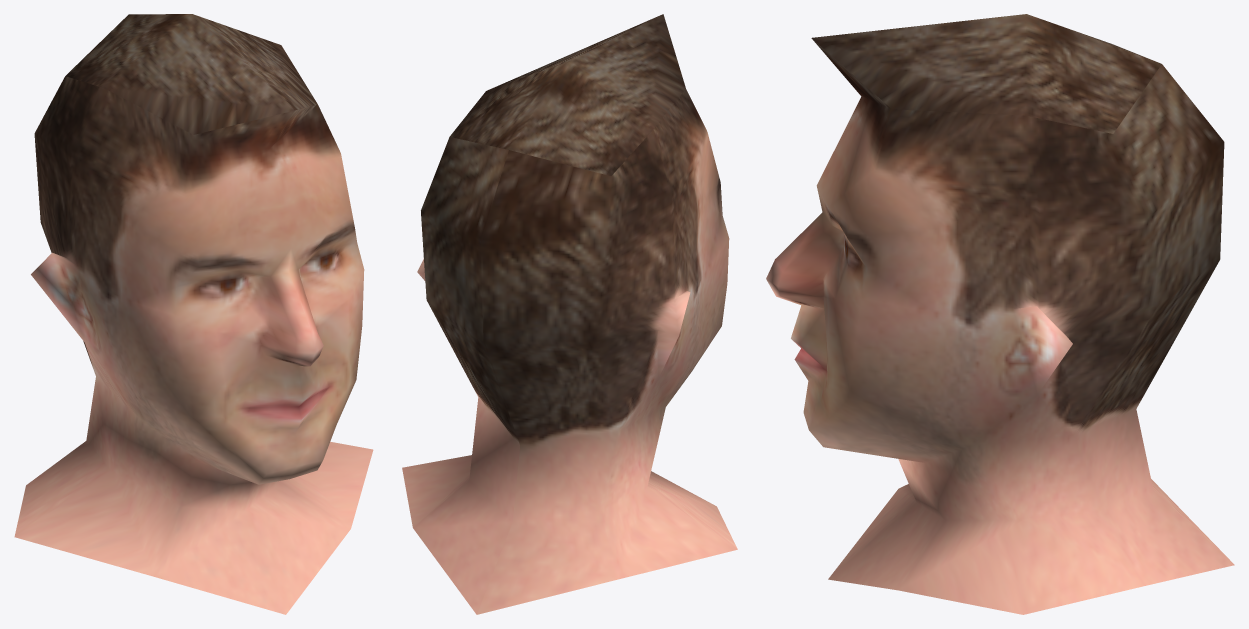
File: doug.dae
The picture shows the model from 3 angles, left to right: view 1: azimuth 30°, elevation 25°; view 2: azimuth 150°, elevation 25°; view 3: azimuth 270°, elevation 25°; orthographic projection. The views are drawn at different scales.
Parts seen in each view (by area): view 1: polySurface1; view 2: polySurface1; view 3: polySurface1.
Part boxes in pixels (box(x1,y1,x2,y2)): polySurface1: box(14, 14, 373, 614); polySurface1: box(402, 14, 737, 614); polySurface1: box(766, 14, 1234, 614).
Bounding box in the file's own units: 12.84 × 18.19 × 13.67.
